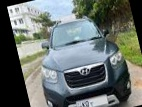car: (29, 9, 136, 107)
